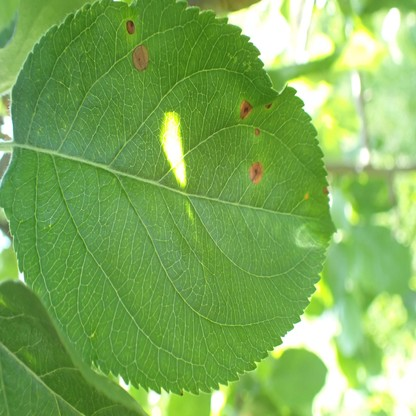frogeye_leaf_spot: (132, 43, 149, 71), (249, 162, 263, 184), (239, 100, 251, 118), (126, 20, 136, 35), (264, 102, 272, 108), (253, 127, 259, 135), (323, 185, 328, 193)
rust: (305, 193, 308, 199)
